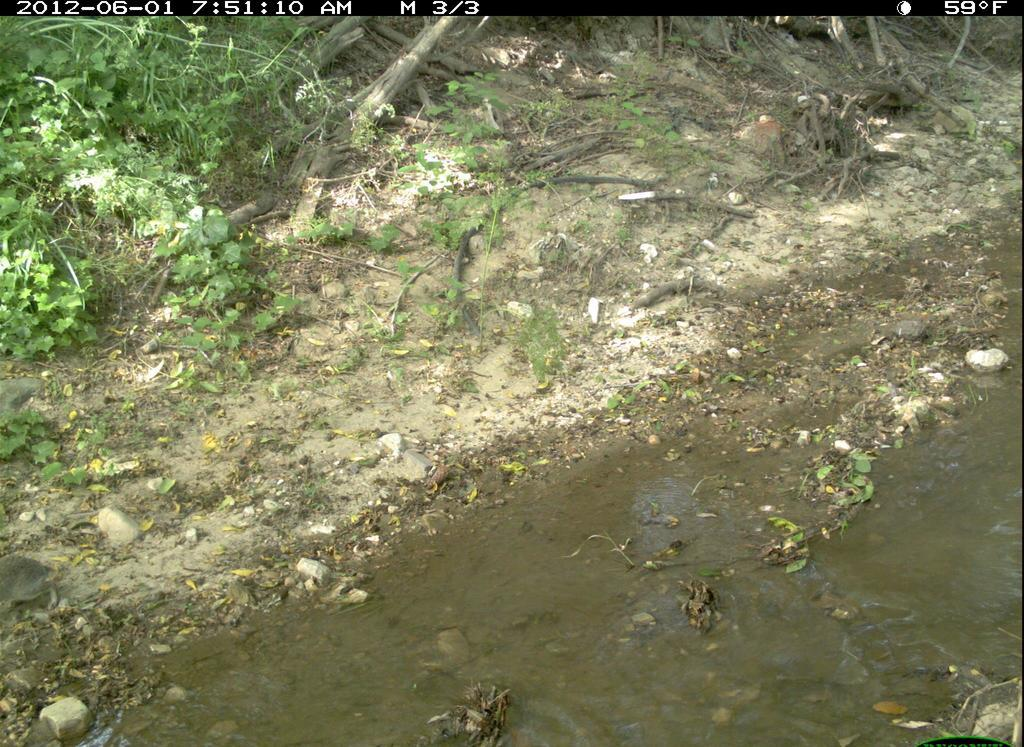rabbit: (6, 523, 65, 647)
